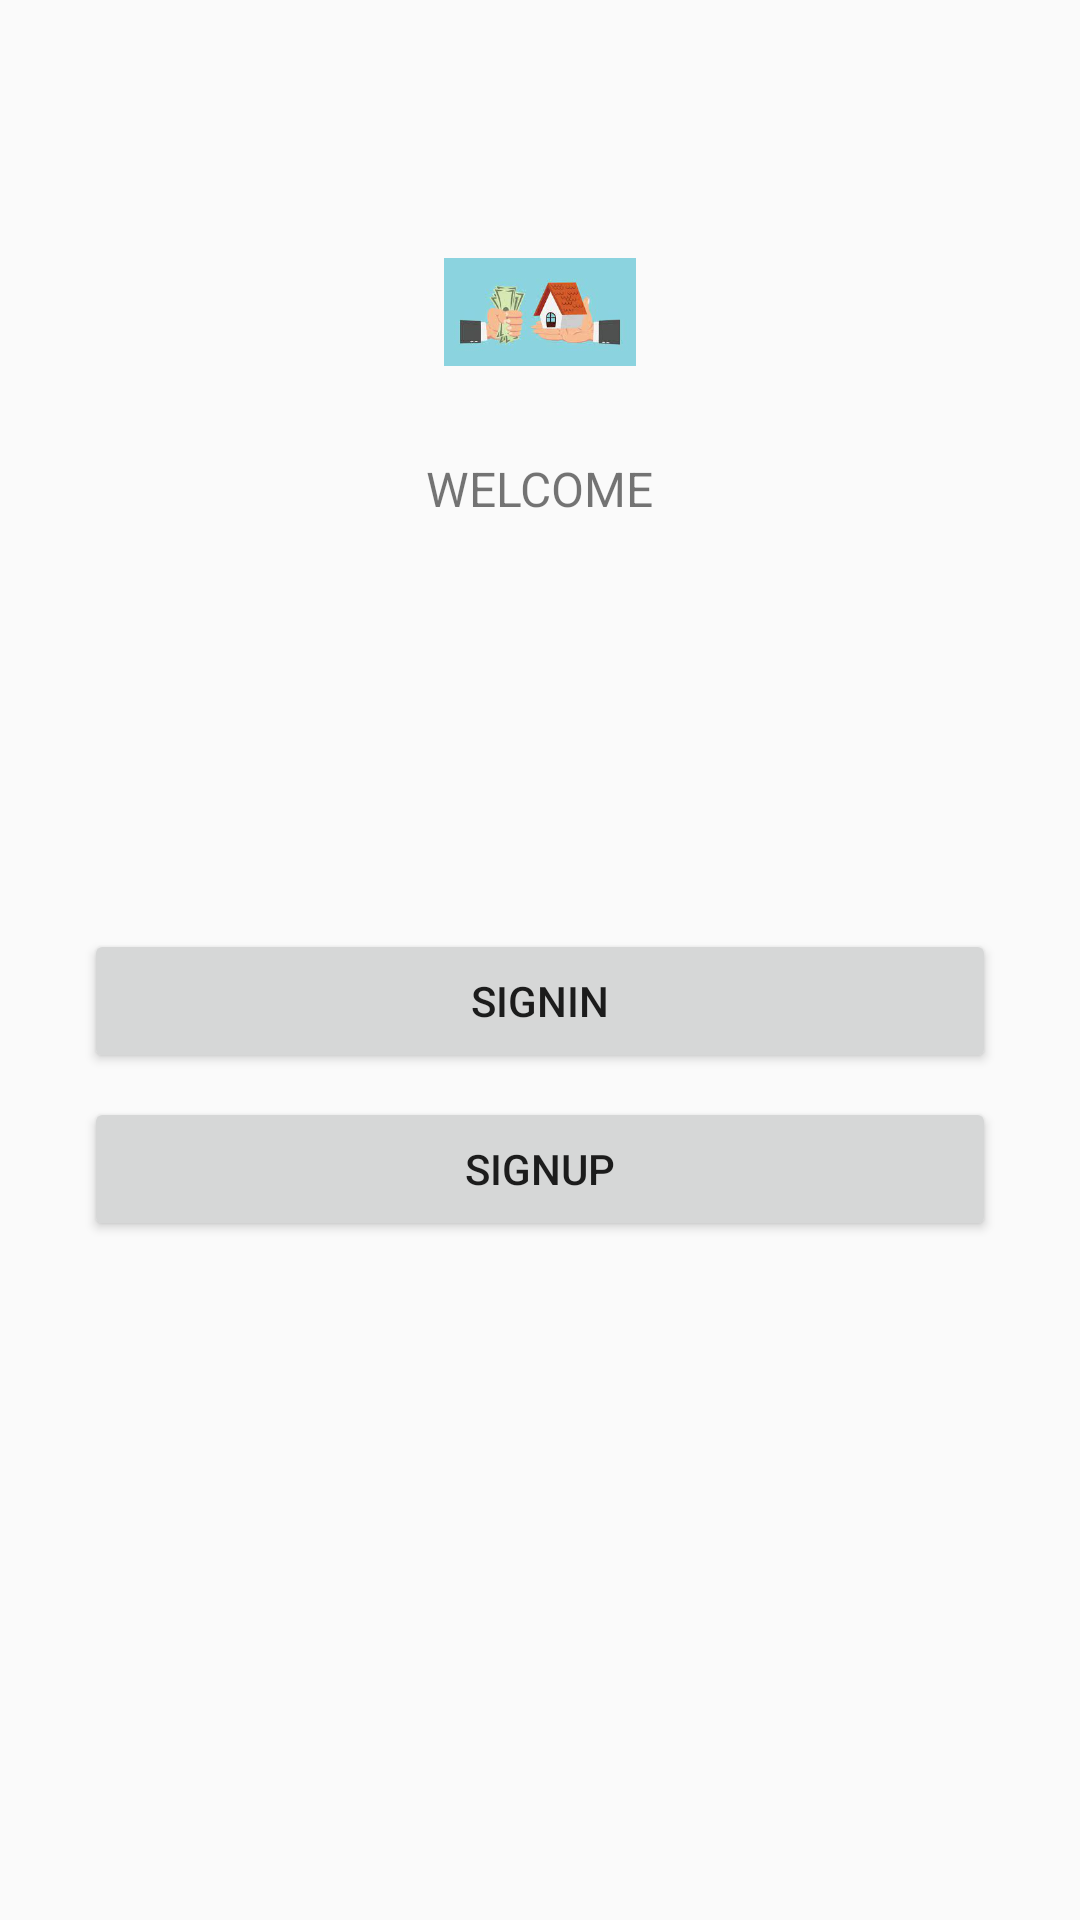

Icons on this 1080*1920 Android screen, each with its box as (x1, y1, x2, y2):
home: (444, 258, 636, 366)
